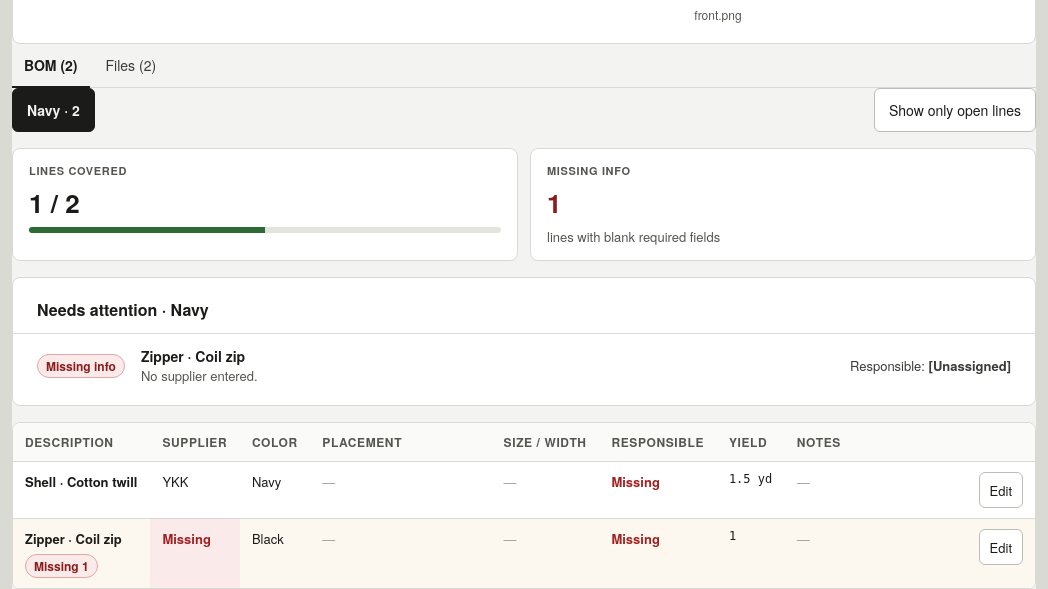
Test: shows an error and keeps the editor open when saving fails
This screenshot has width=1048, height=589.
(page scrolled)
Click the button with aria-label "Edit Zipper": click(1001, 547) [979,529,1023,565]
(page scrolled)
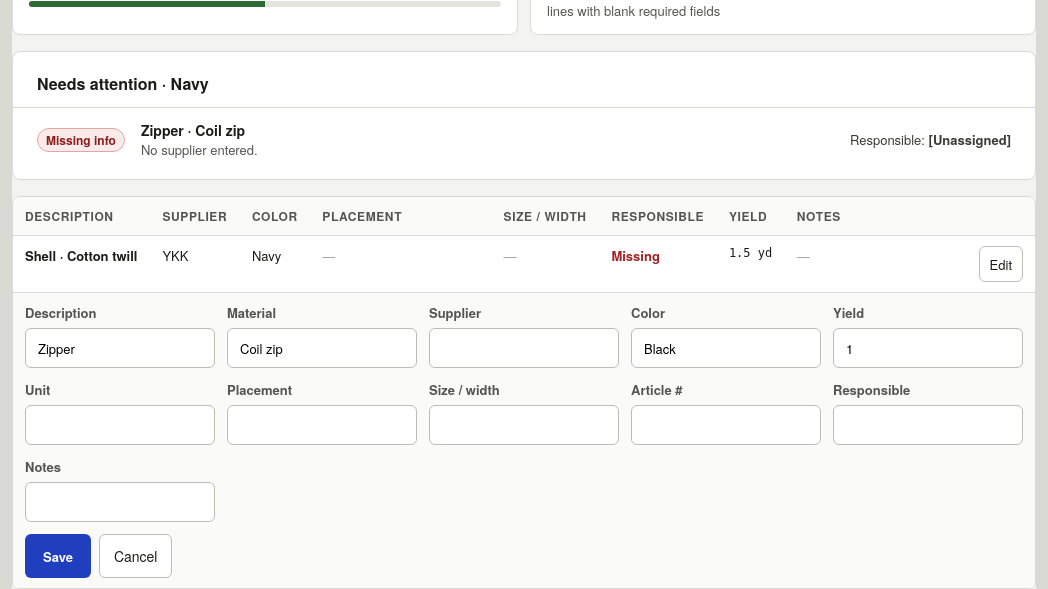
In the field labelled "Supplier": (524, 348) [429,328,619,368], type "YKK"
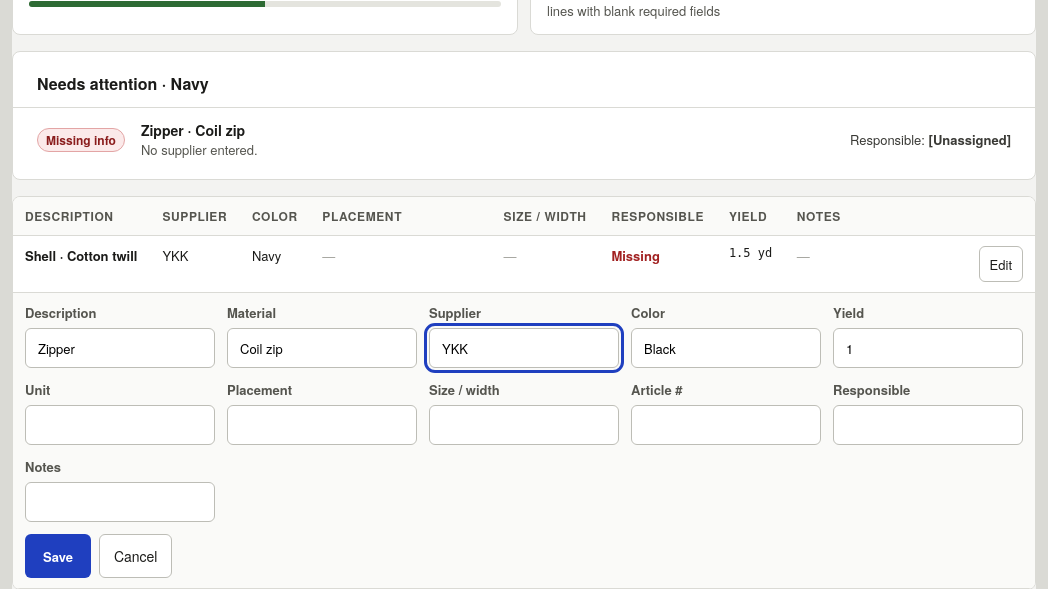
Click the button "Save": click(58, 556) [25,534,91,578]
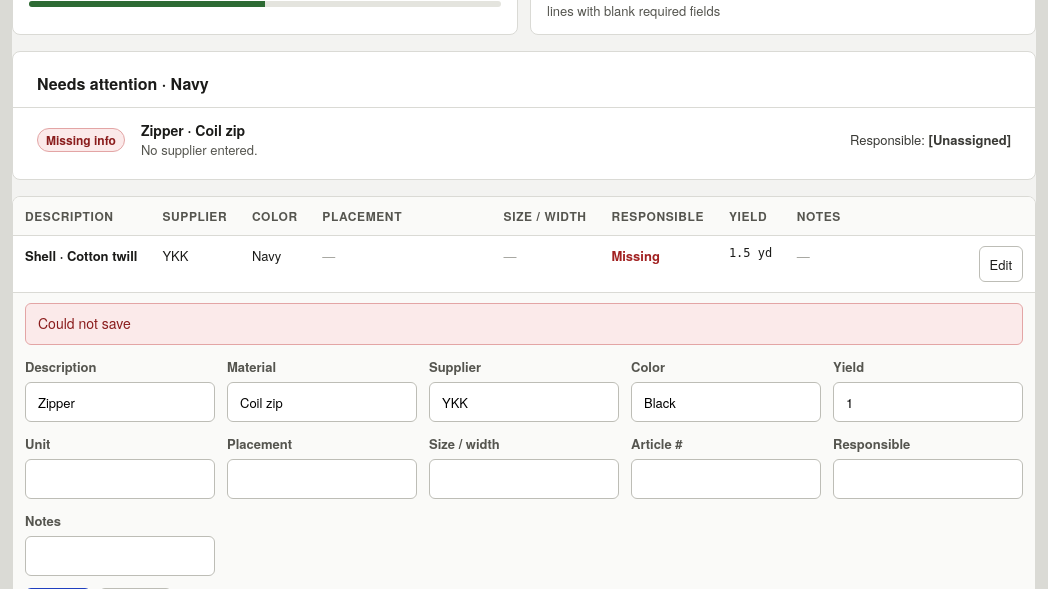
Expected: the message reads "Could not save", [38,313,131,333]
